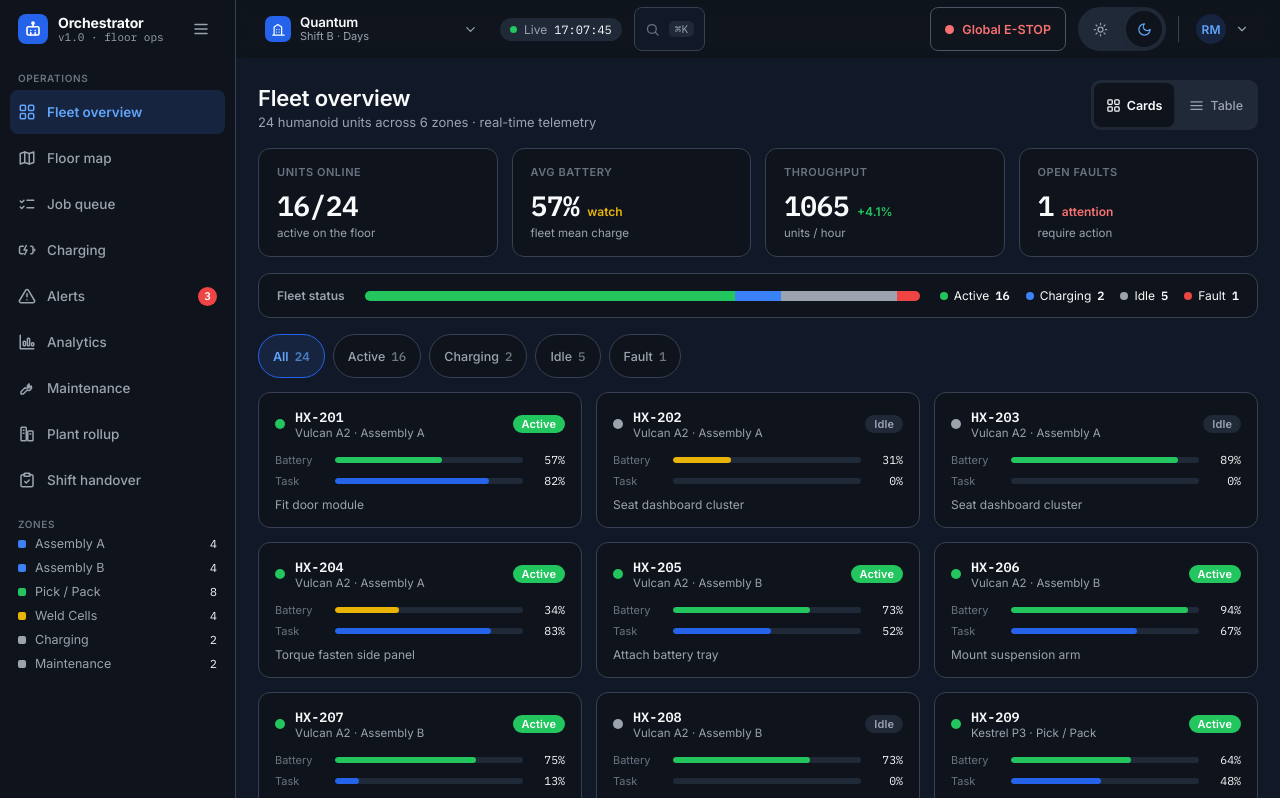
navigation › sidebar "Floor map" shows the Floor map screen
The image size is (1280, 798).
Click the button "Floor map".
click(118, 158)  # box [10, 136, 225, 180]
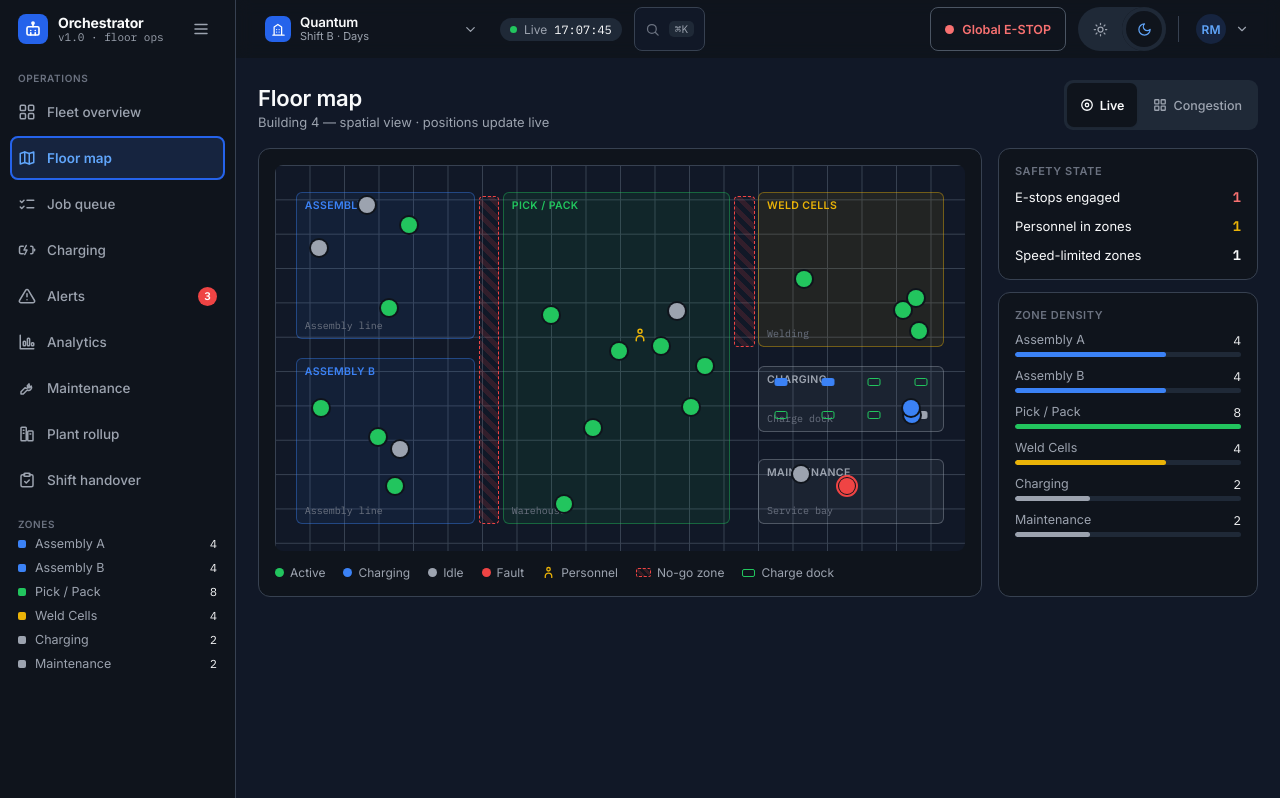
Check: the heading "Floor map" is shown, box [258, 85, 362, 111]
